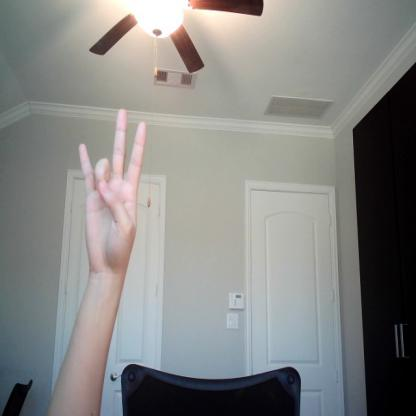seven: (78, 105, 161, 276)
